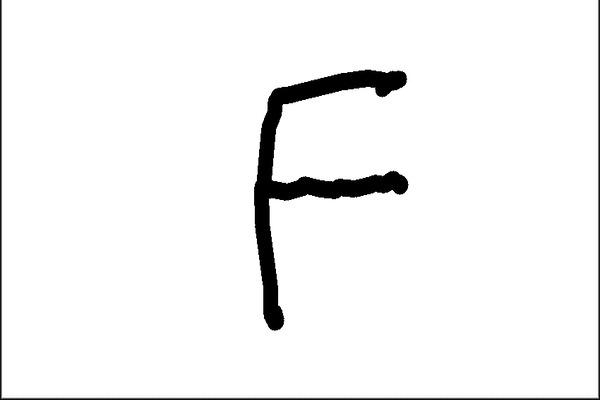F: (249, 64, 415, 333)
